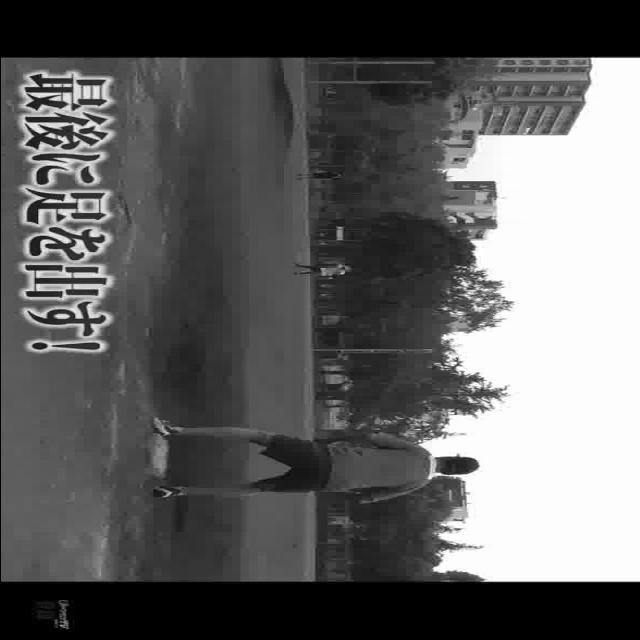base: (144, 434, 162, 478)
shoe: (148, 416, 182, 436), (151, 487, 181, 502)
